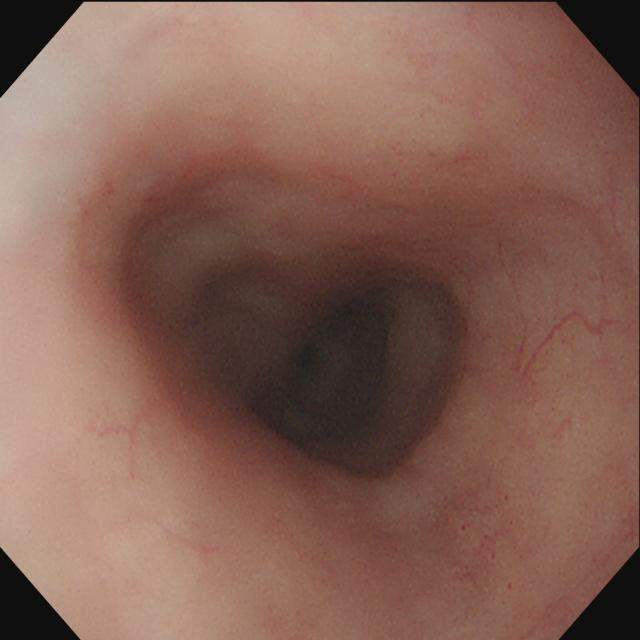E: (254, 266, 466, 484)
